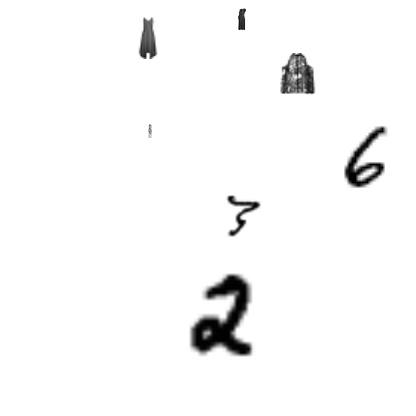2: (167, 263, 279, 375)
3: (212, 184, 268, 240)
6: (321, 118, 405, 202)
Dress: (127, 17, 169, 59), (231, 8, 253, 30), (143, 124, 157, 138)
Shirt: (276, 53, 318, 95)
